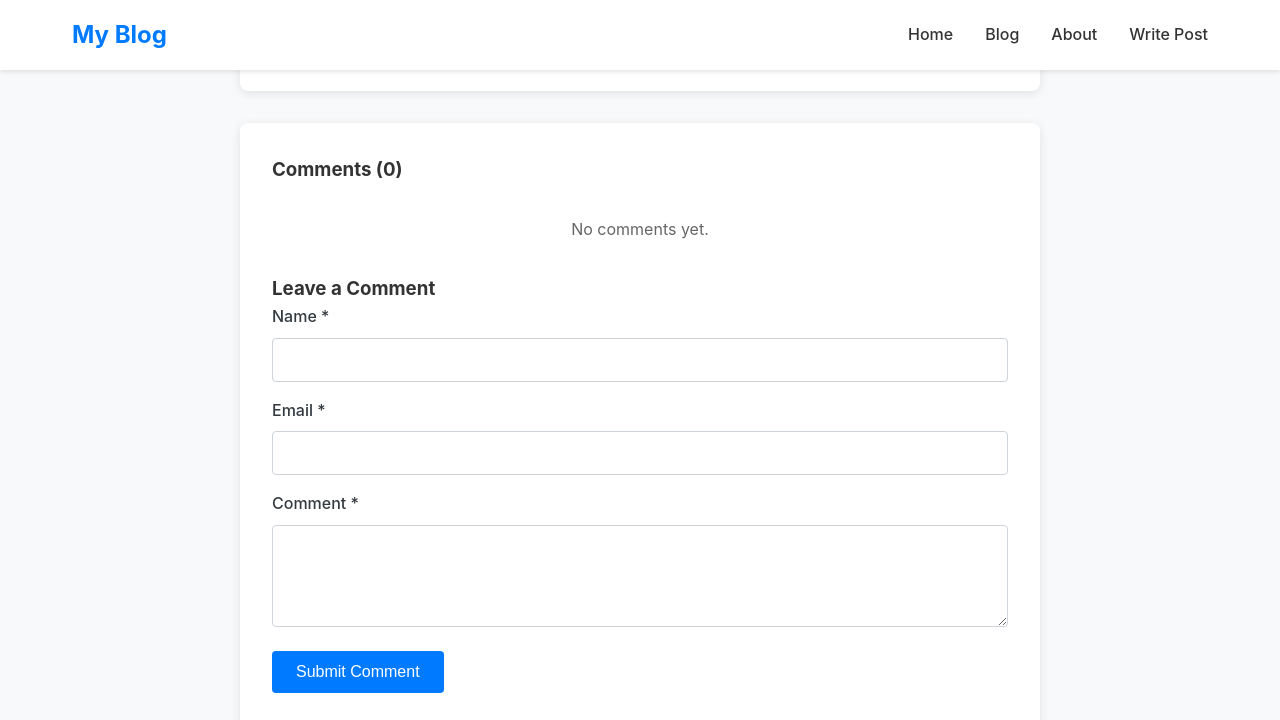
Test: Post Comment Submit - Post Detail Page › Successful Comment Submission › should display the new comment after submission
(page scrolled)
Type "Test User" into the field with id "authorName" at (640, 360), box [272, 338, 1008, 382]
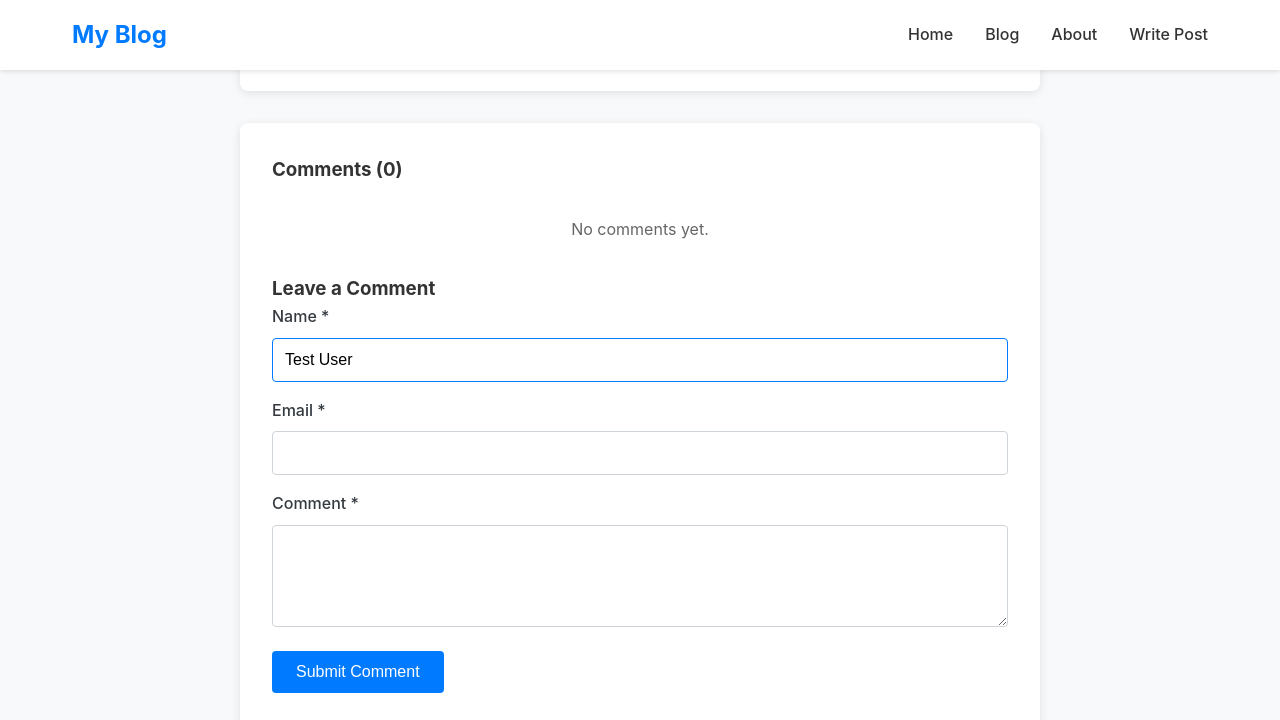
Type "testuser@example.com" into the field with id "authorEmail" at (640, 453), box [272, 431, 1008, 475]
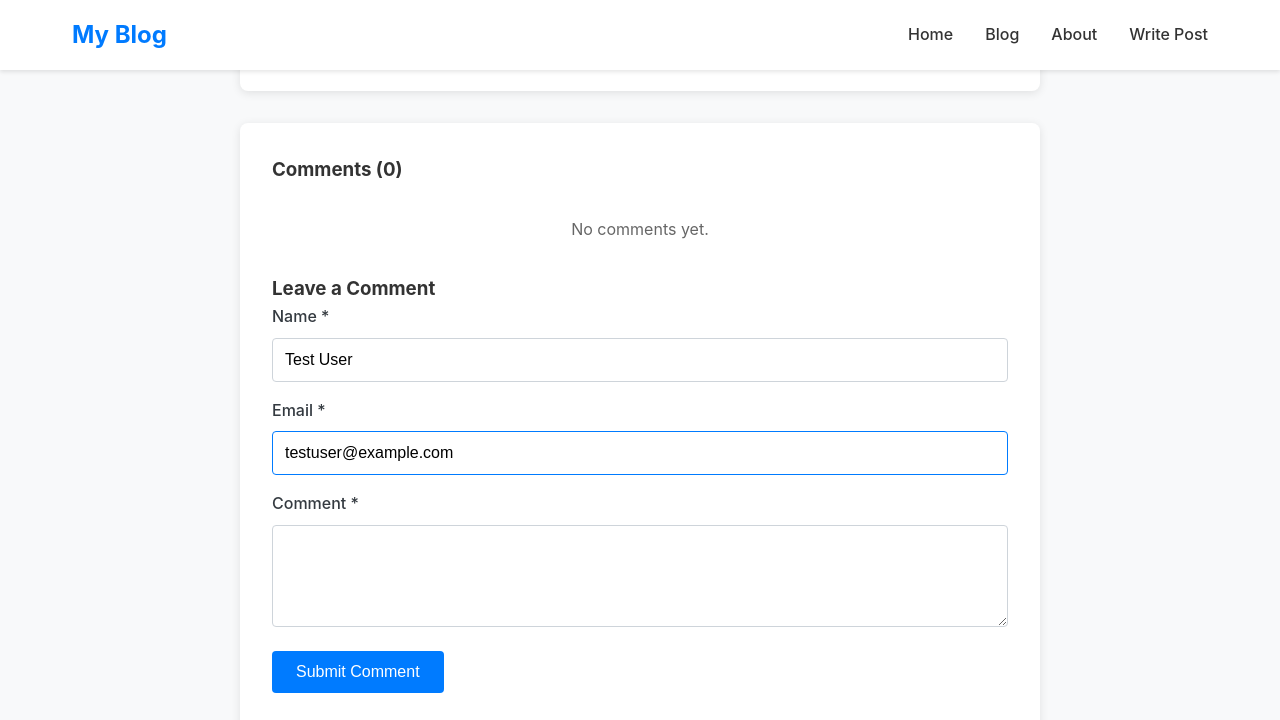
Type "This is a test comment for E2E testing." into the text box labelled "Comment *" at (640, 576), box [272, 525, 1008, 627]
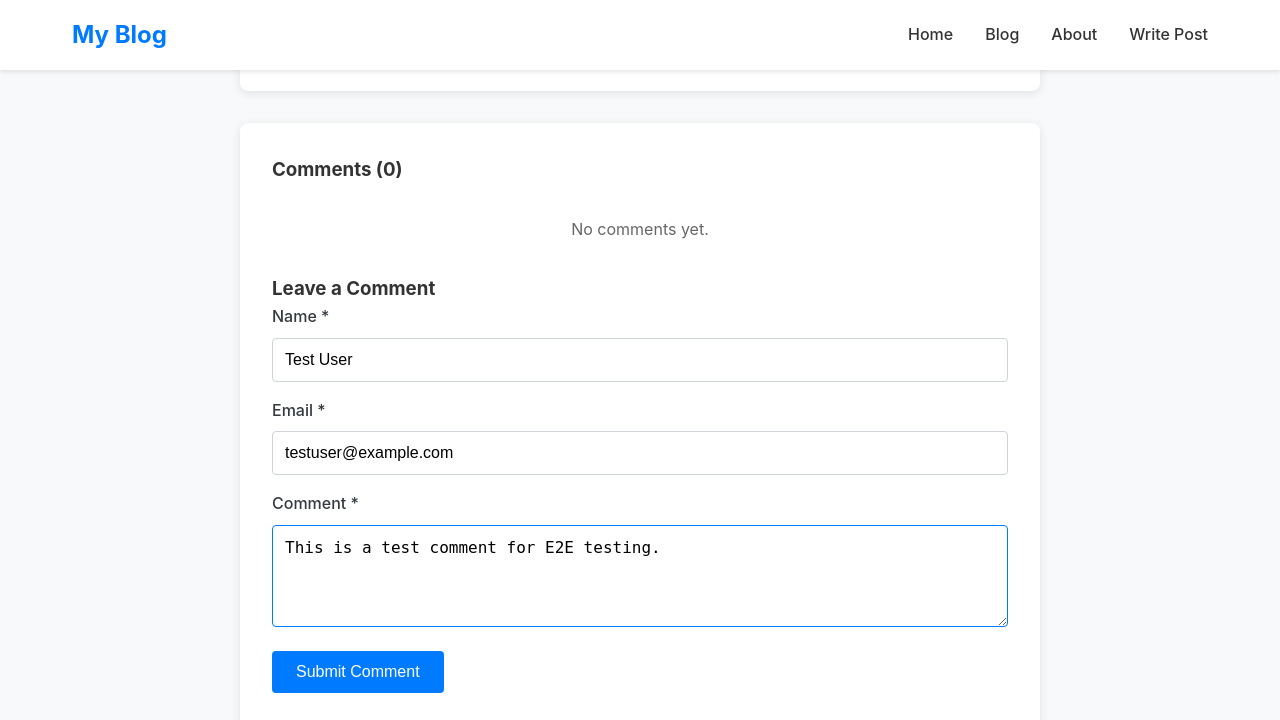
Click the button "Submit Comment" at (358, 672), box [272, 651, 444, 693]
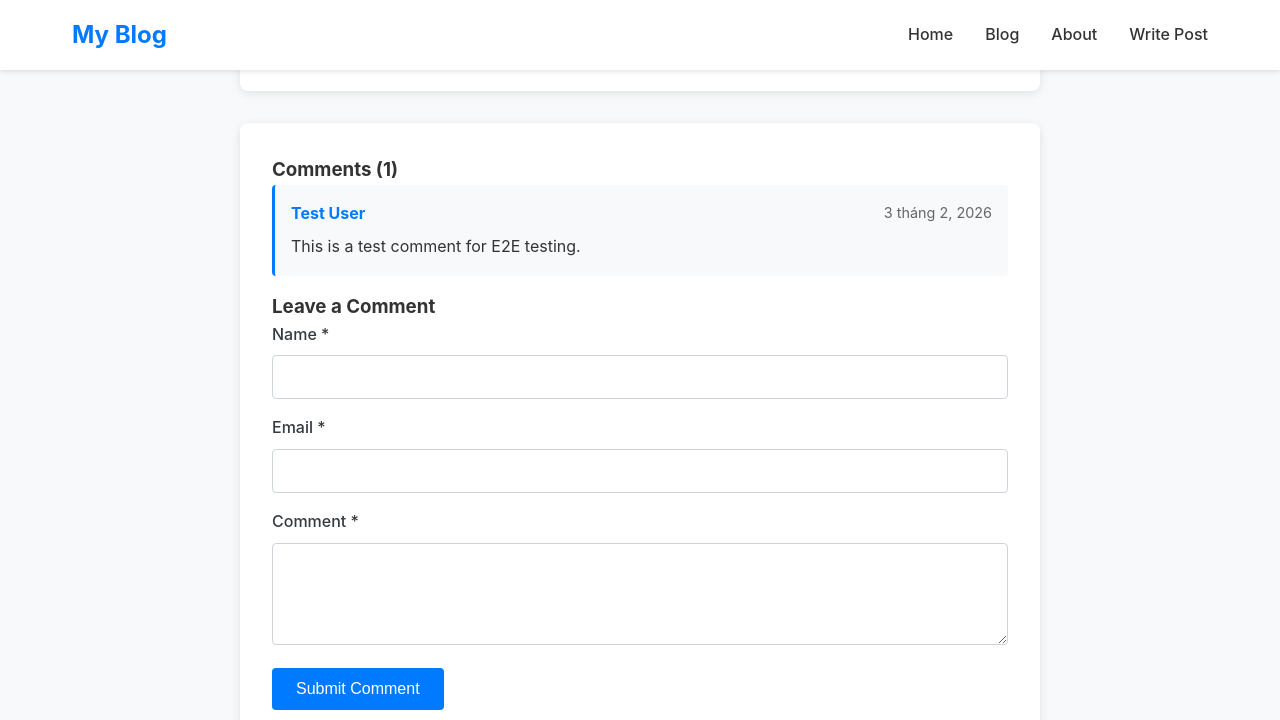
Expected: the text "Test User" is shown, [291, 201, 365, 226]
Expected: the text "This is a test comment for E2E testing." is shown, [291, 236, 581, 256]
